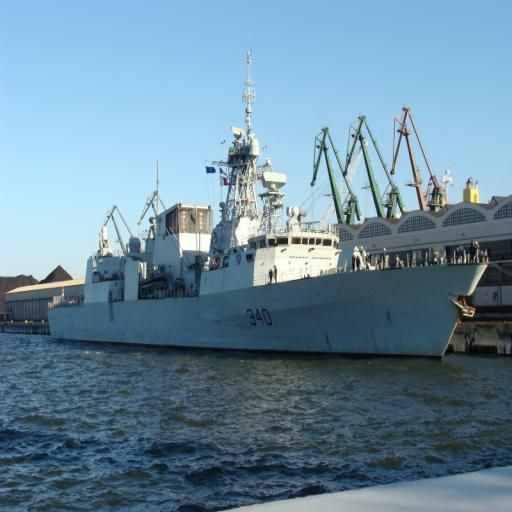Fragata: (45, 46, 497, 366)
